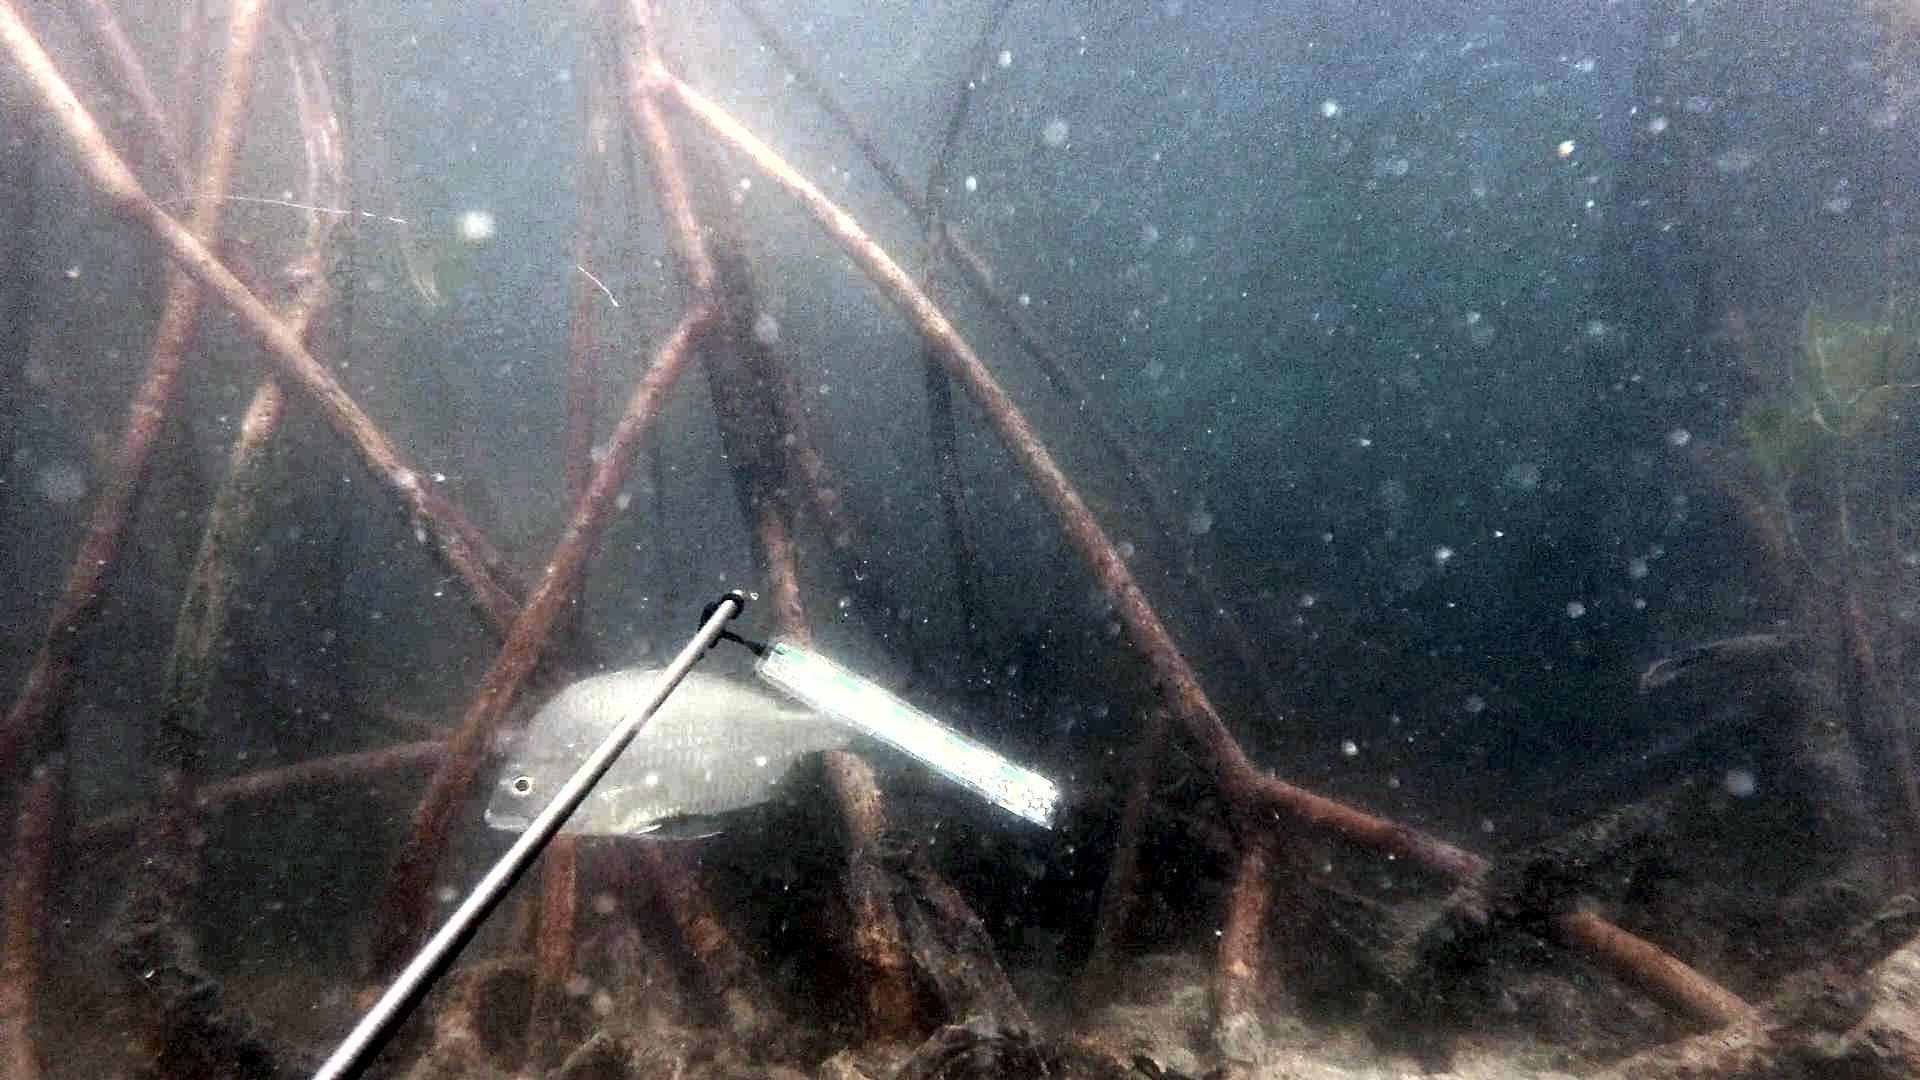acanthopagrus palmaris: (471, 651, 865, 851)
